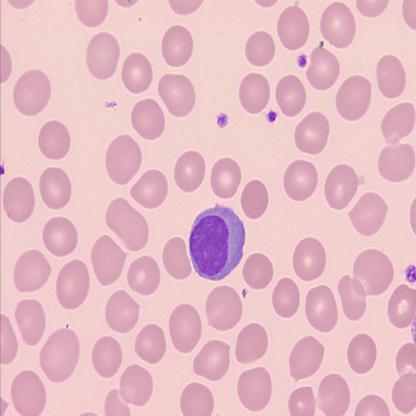Atypical lymphocyte: (190, 207, 245, 281)
